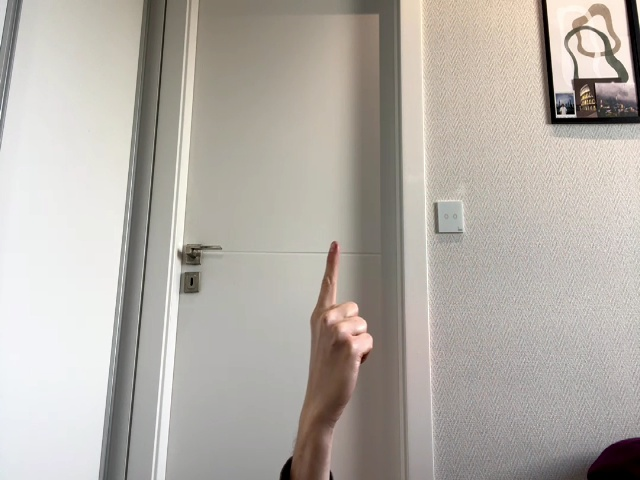D: (309, 241, 373, 435)
